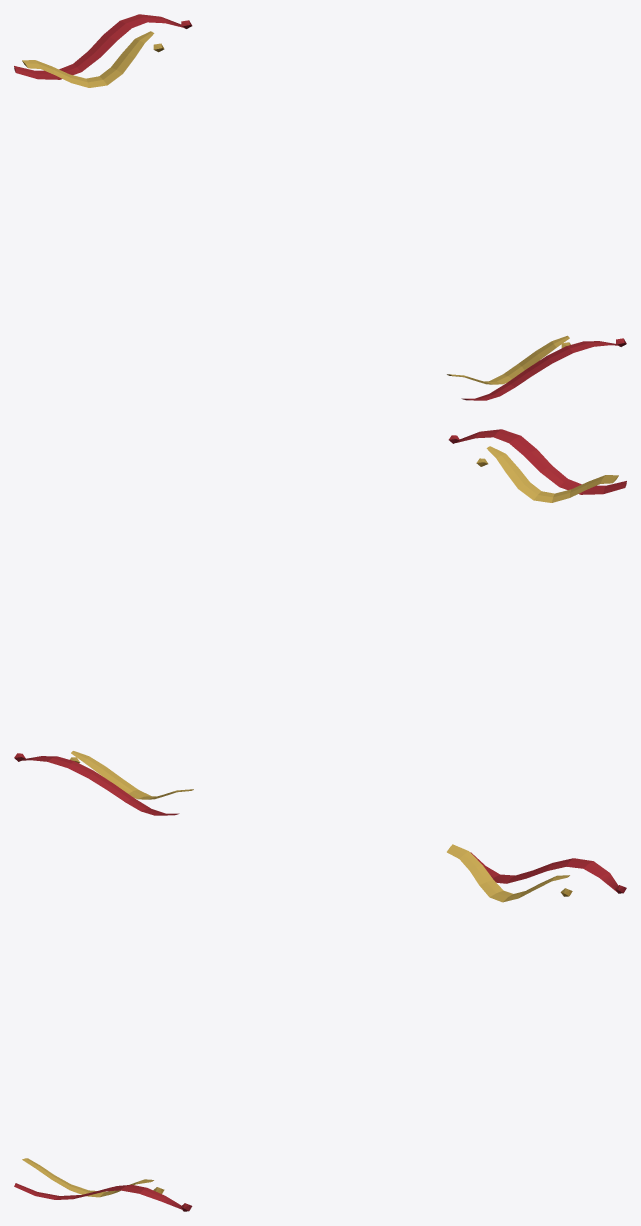
File: gd_eagle_ribbons.glb
The picture shows the model from 3 angles, top to bottom: view 1: azimuth 30°, elevation 25°; view 2: azimuth 150°, elevation 25°; view 3: azimuth 330°, elevation 25°; orthographic projection.
Visible parts, largest first — view 1: ribbonL_m, ribbonR_m; view 2: ribbonR_m, ribbonL_m; view 3: ribbonL_m, ribbonR_m.
Part boxes in pixels (left/top/right/bottom): ribbonL_m: left=14, top=14, right=192, bottom=87; ribbonR_m: left=447, top=335, right=626, bottom=400; ribbonR_m: left=448, top=429, right=626, bottom=502; ribbonL_m: left=14, top=751, right=193, bottom=815; ribbonL_m: left=447, top=844, right=626, bottom=902; ribbonR_m: left=14, top=1158, right=192, bottom=1211.
Size of the model in its own units: 0.3602 by 0.072 by 1.67.
